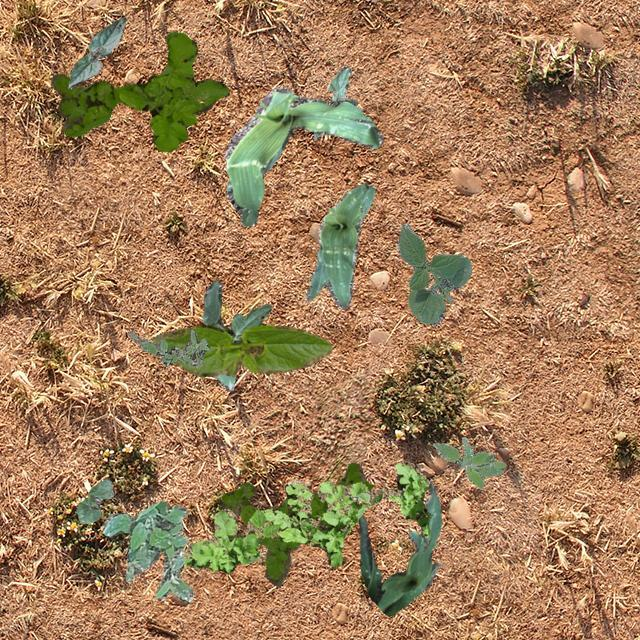crop: (224, 86, 382, 224), (358, 478, 440, 614), (152, 324, 332, 376), (304, 182, 374, 308), (396, 222, 471, 324), (202, 278, 270, 389), (66, 16, 125, 88), (312, 66, 356, 140), (76, 478, 112, 522)
weed: (182, 458, 430, 572), (50, 30, 228, 152), (218, 462, 372, 584), (102, 501, 192, 602), (432, 436, 504, 488), (128, 329, 208, 366)
